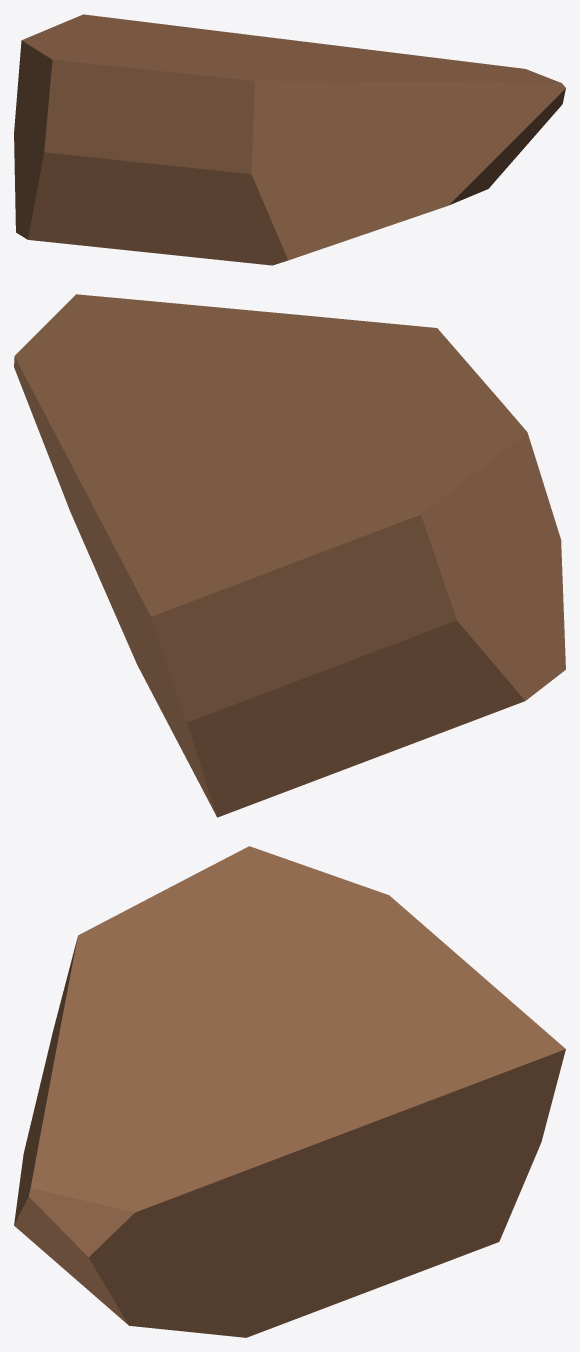
Rendered from WoodCellCube_003_cell_032.fbx.
3 renders of one model, top to bottom at view 1: azimuth 30°, elevation 25°; view 2: azimuth 150°, elevation 25°; view 3: azimuth 270°, elevation 25°, orthographic. The views are drawn at different scales.
Parts seen in each view (by area): view 1: WoodCellCube_003_cell_032; view 2: WoodCellCube_003_cell_032; view 3: WoodCellCube_003_cell_032.
Part boxes in pixels (x1=…): WoodCellCube_003_cell_032: x1=14, y1=14, x2=565, y2=265; WoodCellCube_003_cell_032: x1=14, y1=294, x2=565, y2=817; WoodCellCube_003_cell_032: x1=14, y1=846, x2=565, y2=1337.
Size of the model in its own units: 1.05 by 0.6577 by 1.31.
1 material, 1 textured.
